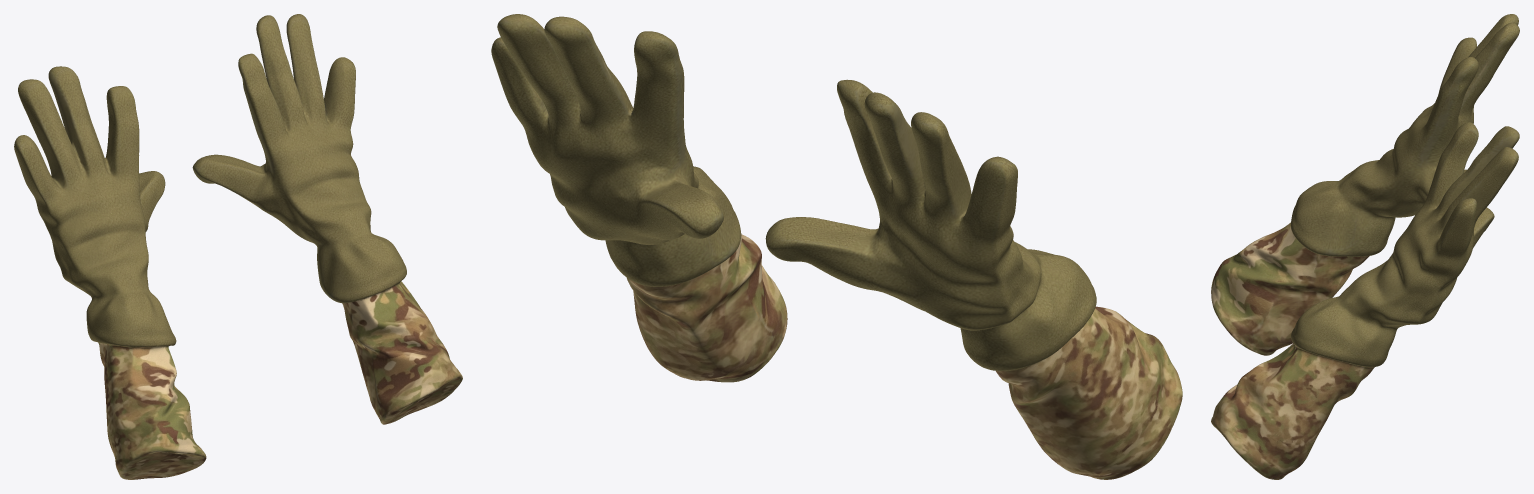
Rendered from gloves.glb.
3 renders of one model, left to right at view 1: azimuth 30°, elevation 25°; view 2: azimuth 150°, elevation 25°; view 3: azimuth 270°, elevation 25°, orthographic. The views are drawn at different scales.
Size of the model in its own units: 1.9 by 1.74 by 1.46.
Materials: 1 (1 with a texture image).
